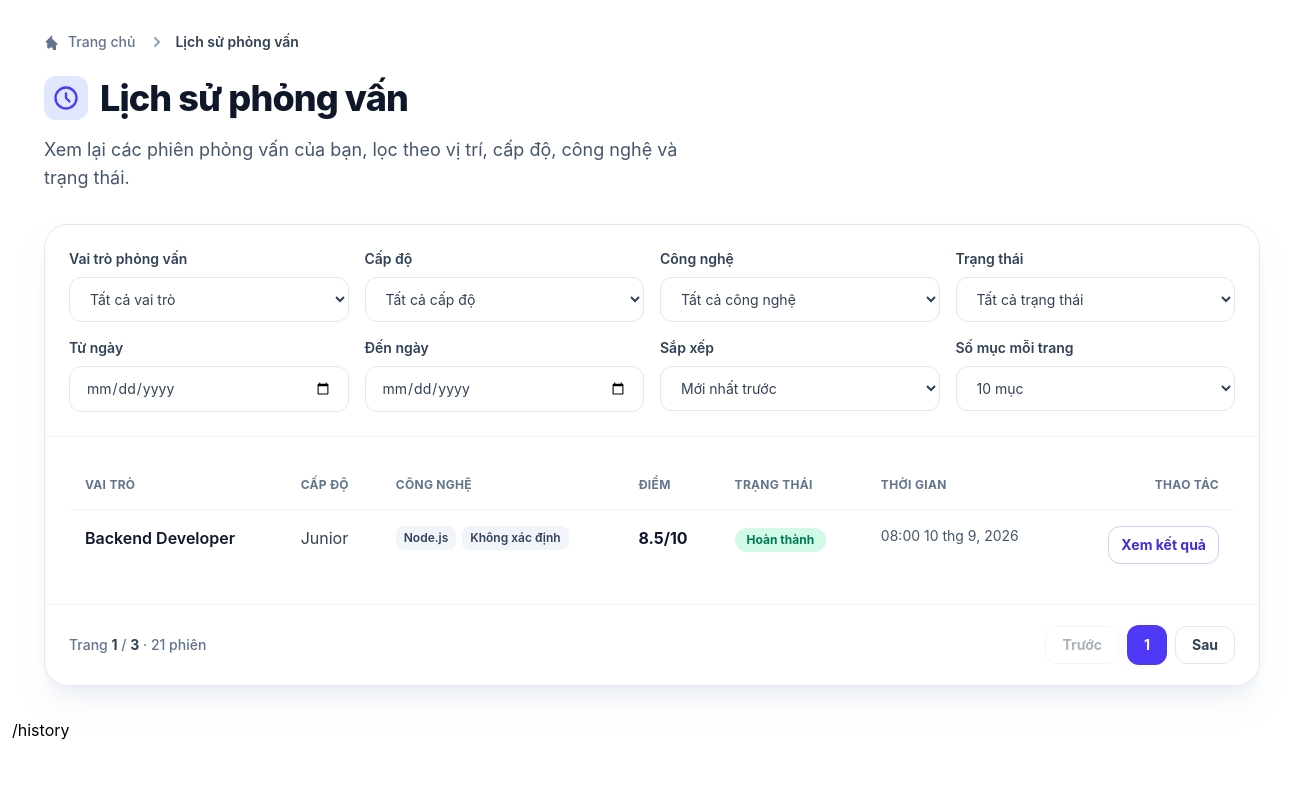
Test: HistoryPage › respects pagination boundaries and syncs page changes
Expected: the cell "Backend Developer" is shown, [69, 510, 285, 580]
Expected: the button with aria-label "Trang trước" is disabled, [1046, 626, 1119, 664]
Click the button with aria-label "Trang sau": click(1205, 645) [1175, 626, 1235, 664]
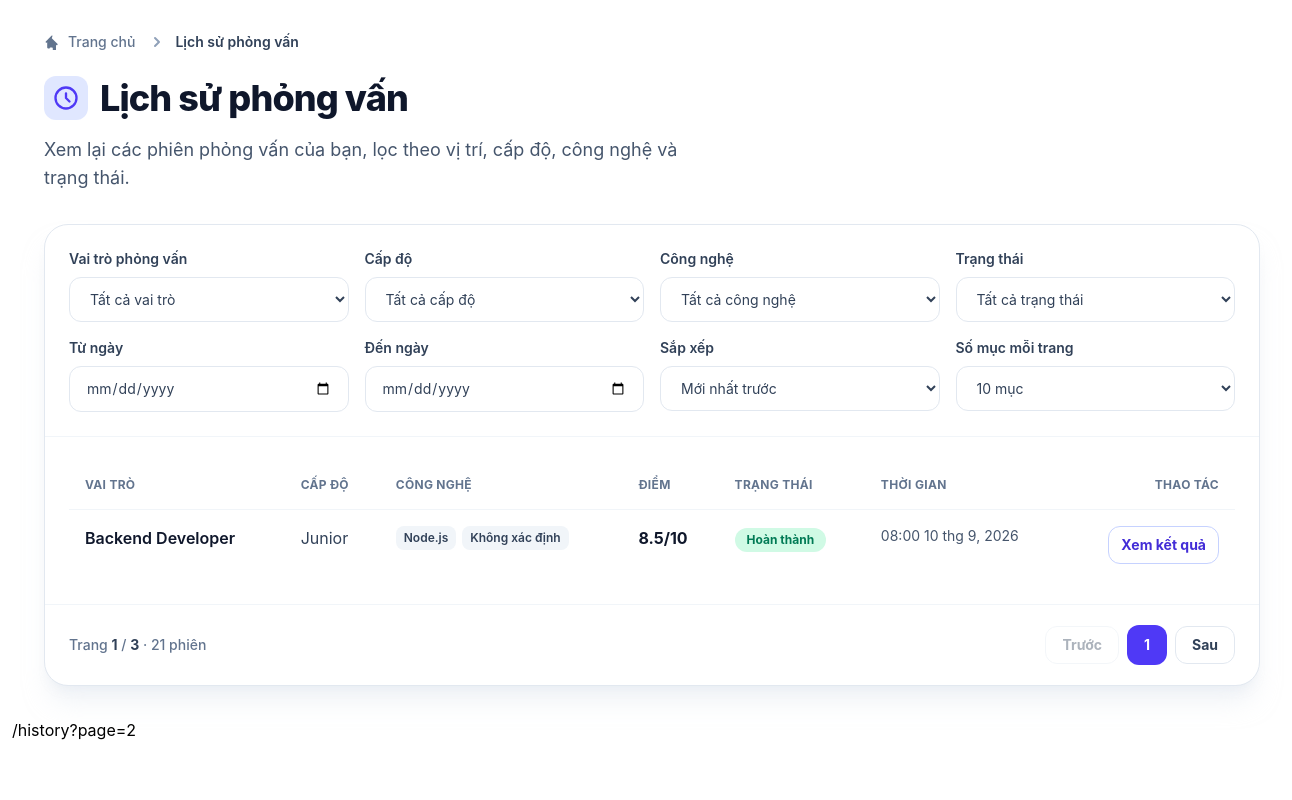
Expected: the text with test id "location" reads "/history?page=2", [12, 720, 136, 740]
